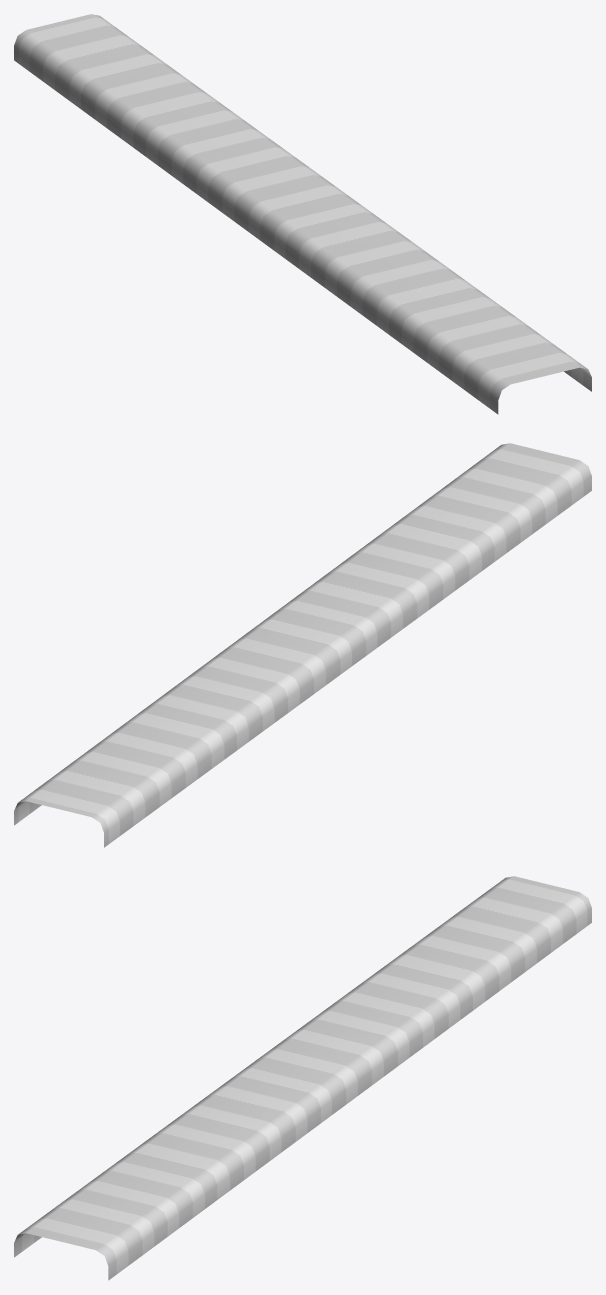
File: road_01.fbx
3 renders of one model, top to bottom at view 1: azimuth 30°, elevation 25°; view 2: azimuth 150°, elevation 25°; view 3: azimuth 330°, elevation 25°, orthographic.
Visible parts, largest first — view 1: road_01; view 2: road_01; view 3: road_01.
Part boxes in pixels (x1=…): road_01: x1=14, y1=14, x2=591, y2=414; road_01: x1=14, y1=443, x2=591, y2=847; road_01: x1=14, y1=876, x2=591, y2=1280.
Size of the model in its own units: 1284 by 359 by 11506.
Materials: 1 (1 with a texture image).
